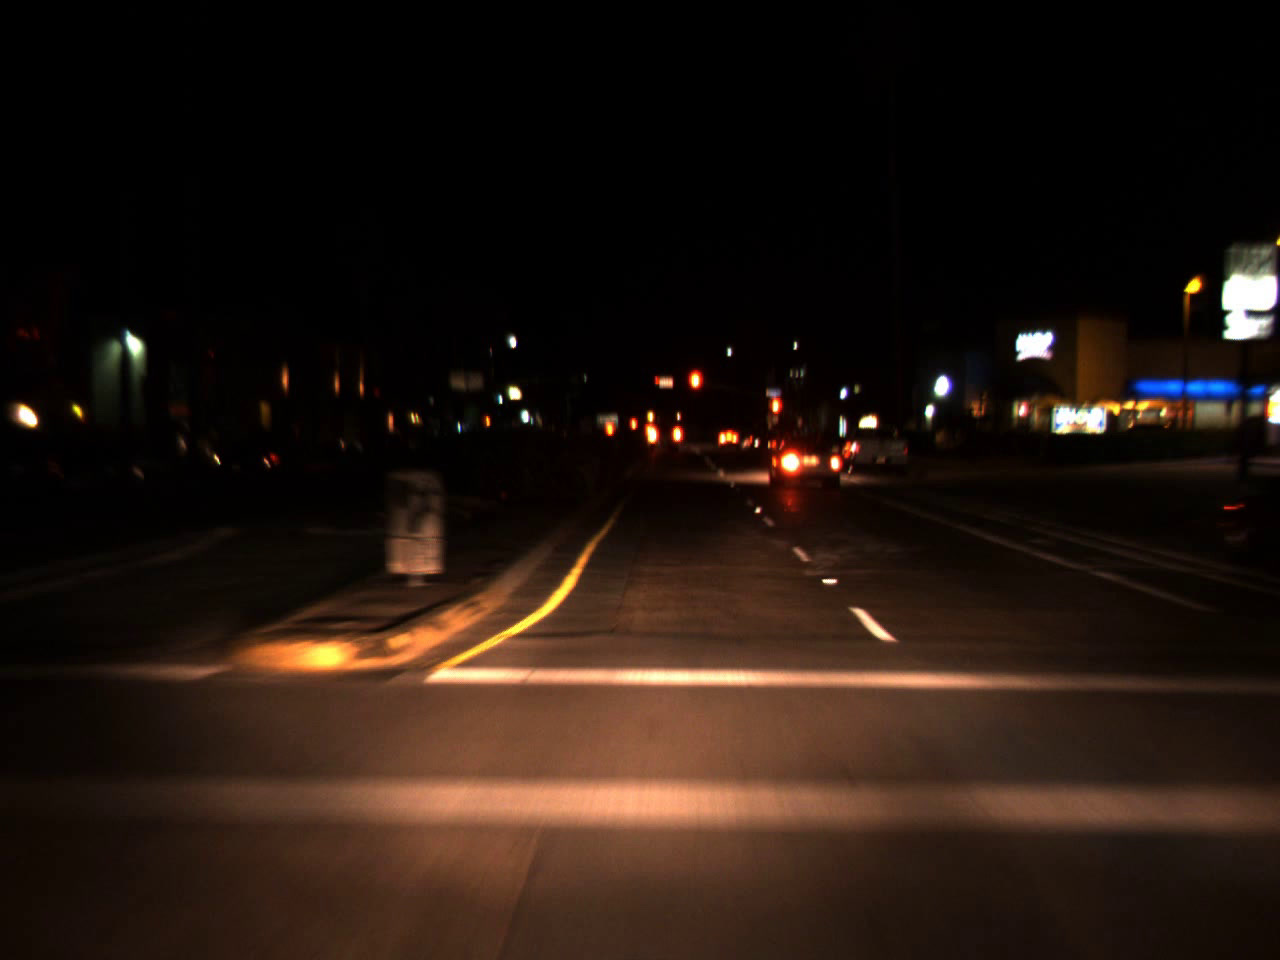stop: (685, 366, 703, 411), (769, 394, 784, 437), (655, 376, 661, 392)
